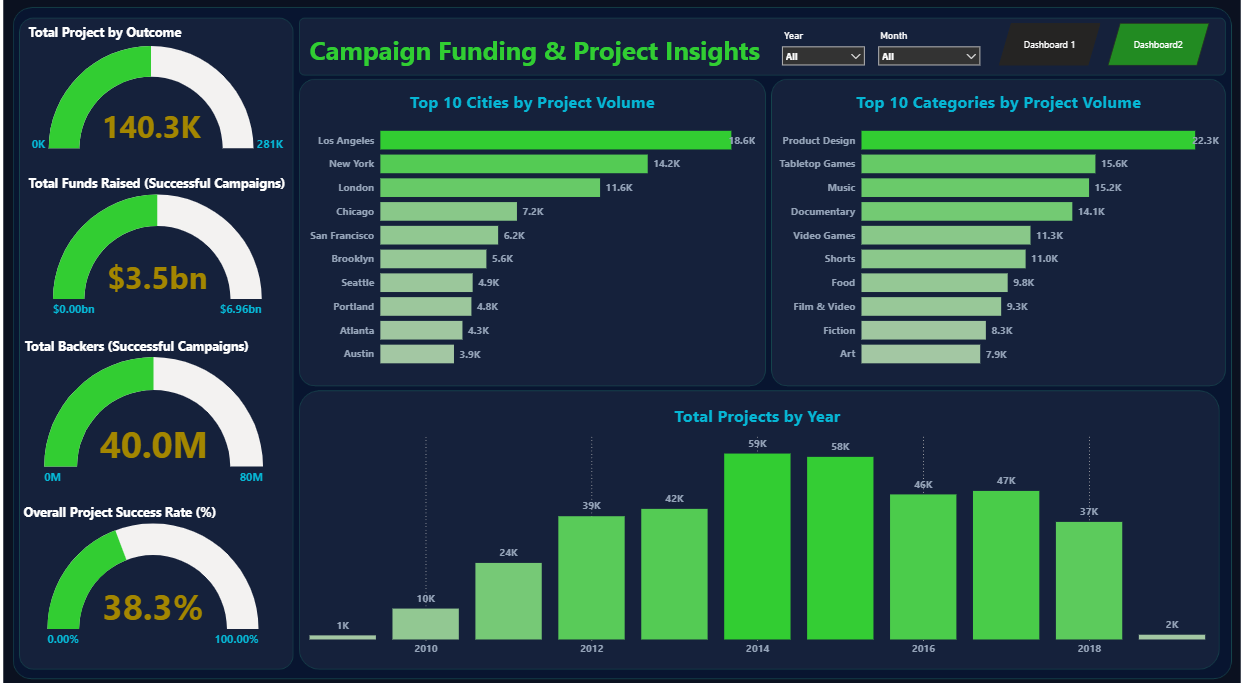

This screenshot's page, from the dashboard's own definition file:
{"tool":"powerbi","page":{"name":"Dashboard 1","canvas":[2000,1100],"ordinal":0},"visuals":[{"type":"gauge","fields":{"Y":["Main.Total Project by Outcome"]},"box":[130.9,80,385.5,196.4],"z":0},{"type":"clusteredBarChart","title":"Top 10 Cities by Project Volume","fields":{"Category":["Location.name"],"Y":["Main.Total Projects"]},"box":[540,178.2,658.2,416.4],"z":1000},{"type":"clusteredBarChart","title":"Top 10 Categories by Project Volume","fields":{"Category":["Category.name"],"Y":["Main.Total Projects"]},"box":[1221.8,178.2,650.9,416.4],"z":2000},{"type":"gauge","title":"Overall Project Success Rate (%)","fields":{"Y":["Main.Overall percentage successful"]},"box":[123.6,778.2,387.3,220],"z":3000},{"type":"gauge","title":"Total Funds Raised (Successful Campaigns)","fields":{"Y":["Main.Amount Raised Successful"]},"box":[130.9,300,385.5,218.2],"z":4000},{"type":"gauge","title":"Total Backers (Successful Campaigns)","fields":{"Y":["Main.No of backers successful"]},"box":[125.5,536.4,385.5,225.5],"z":5000},{"type":"textbox","box":[540,80,682,70],"z":6000},{"type":"slicer","fields":{"Values":["Date.Date.Variation.Date Hierarchy.Month"]},"box":[1362,86,168,62],"z":7000},{"type":"slicer","fields":{"Values":["Date.Date.Variation.Date Hierarchy.Year"]},"box":[1222,86,140,64],"z":8000},{"type":"pageNavigator","box":[1548,80,306,62],"z":9000},{"type":"clusteredColumnChart","fields":{"Y":["Main.Total Projects"],"Category":["Date.Date.Variation.Date Hierarchy.Year","Date.Date.Variation.Date Hierarchy.Quarter","Date.Date.Variation.Date Hierarchy.Month"]},"box":[540,634.5,1312.7,376.4],"z":10000}]}

Visuals, with their boxes in screenshot pixels (x1, y1, x2, y2), scaled from the page's 2000x1100 canvas onto the 1241x683 screenshot:
gauge - Main.Total Project by Outcome: 81/50/320/172
"Top 10 Cities by Project Volume" clusteredBarChart: 335/111/743/369
"Top 10 Categories by Project Volume" clusteredBarChart: 758/111/1162/369
"Overall Project Success Rate (%)" gauge: 77/483/317/620
"Total Funds Raised (Successful Campaigns)" gauge: 81/186/320/322
"Total Backers (Successful Campaigns)" gauge: 78/333/317/473
textbox: 335/50/758/93
slicer - Date.Date.Variation.Date Hierarchy.Month: 845/53/949/92
slicer - Date.Date.Variation.Date Hierarchy.Year: 758/53/845/93
pageNavigator: 961/50/1150/88
clusteredColumnChart - Main.Total Projects x Date.Date.Variation.Date Hierarchy.Year: 335/394/1150/628
